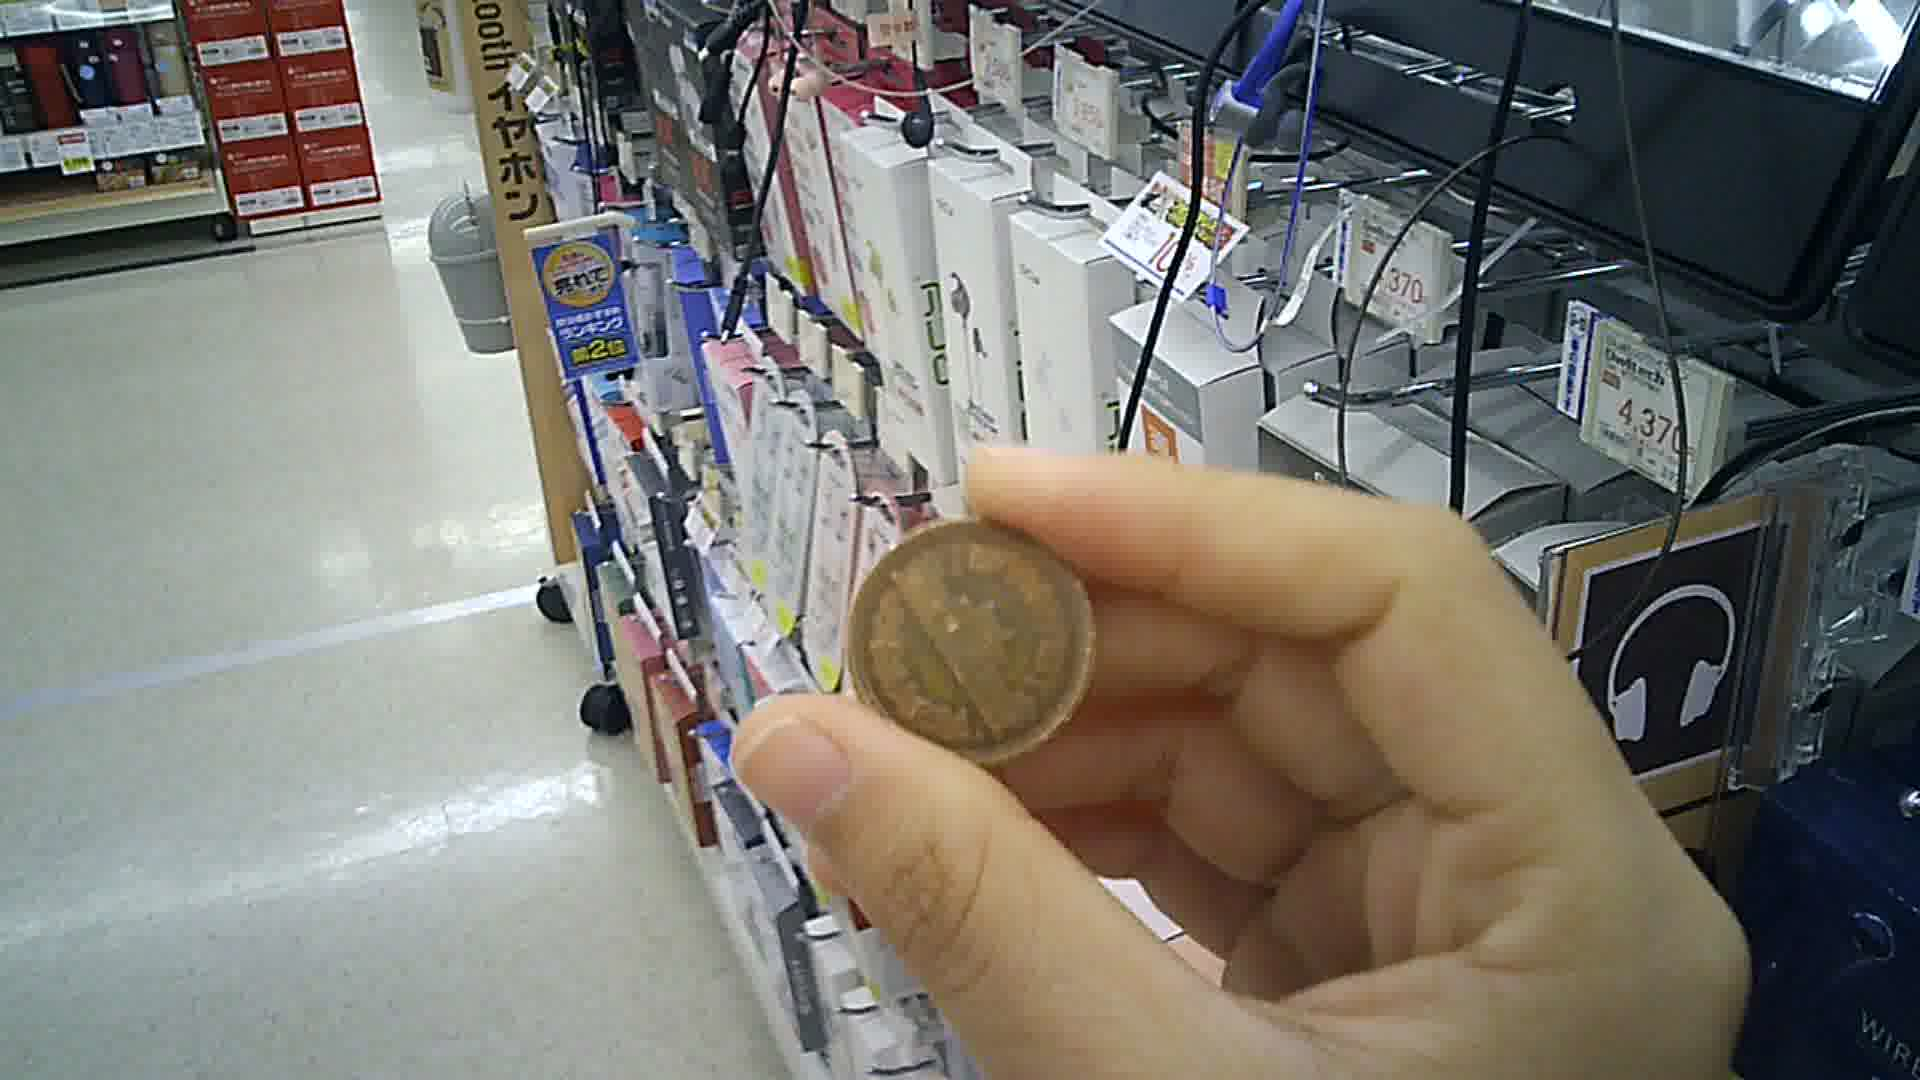10 Yen: (835, 513, 1096, 767)
